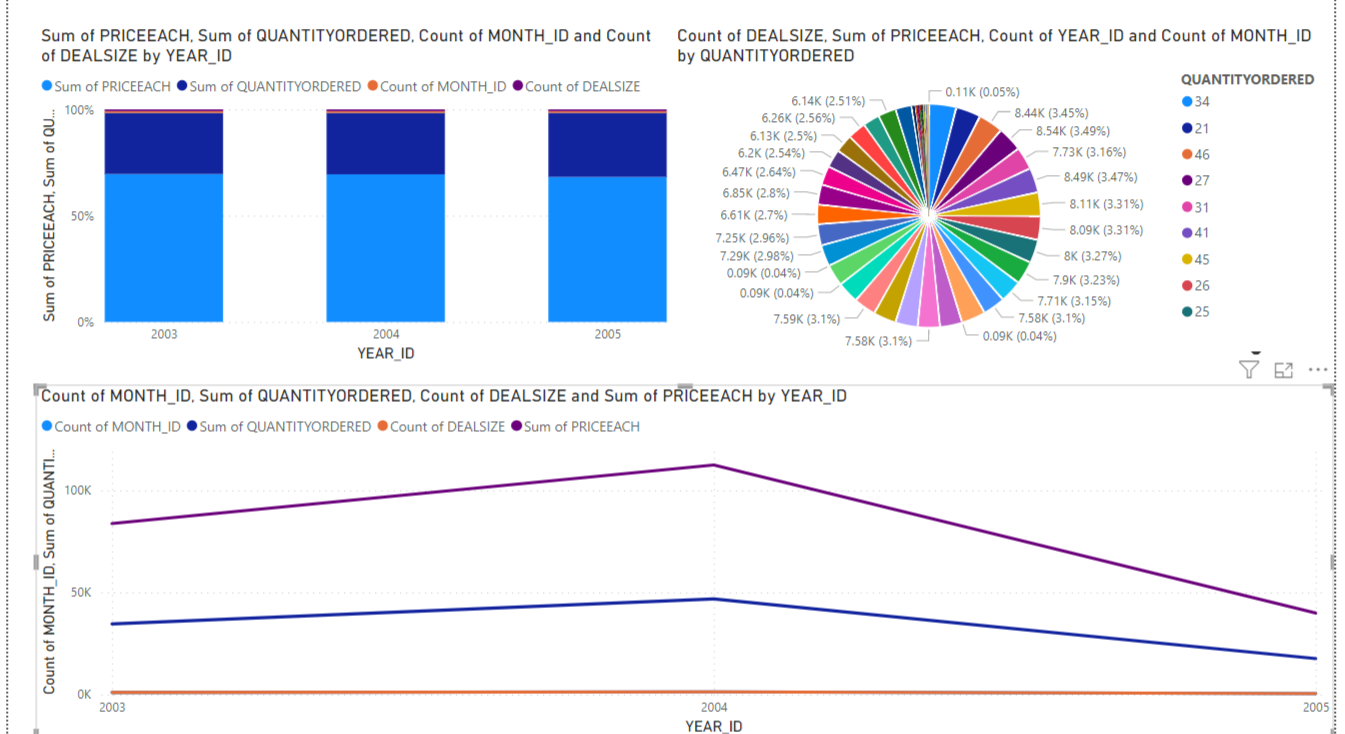

What the dashboard file says about the page in this screenshot:
{"tool":"powerbi","page":{"name":"Page 1","canvas":[1280,720],"ordinal":0},"visuals":[{"type":"hundredPercentStackedColumnChart","fields":{"Category":["sales_data.YEAR_ID"],"Y":["Sum(sales_data.PRICEEACH)","Sum(sales_data.QUANTITYORDERED)","CountNonNull(sales_data.MONTH_ID)","CountNonNull(sales_data.DEALSIZE)"]},"box":[26.5,30.2,613.9,330.5],"z":0},{"type":"pieChart","fields":{"Category":["sales_data.QUANTITYORDERED"],"Y":["CountNonNull(sales_data.DEALSIZE)","Sum(sales_data.PRICEEACH)","CountNonNull(sales_data.YEAR_ID)","CountNonNull(sales_data.MONTH_ID)"]},"box":[640.4,30.2,639.2,330.5],"z":1000},{"type":"lineChart","fields":{"Category":["sales_data.YEAR_ID"],"Y":["CountNonNull(sales_data.MONTH_ID)","Sum(sales_data.QUANTITYORDERED)","CountNonNull(sales_data.DEALSIZE)","Sum(sales_data.PRICEEACH)"]},"box":[26.5,377.5,1253.1,342.5],"z":2000}]}

Visuals, with their boxes on the page's 1280x720 design canvas (x1, y1, x2, y2). These are canvas units, not pixel positions in the 1345x734 screenshot, which may show the page scaled, cropped or inside an application window:
hundredPercentStackedColumnChart - sales_data.YEAR_ID x Sum(sales_data.PRICEEACH): bbox=(26, 30, 640, 361)
pieChart - sales_data.QUANTITYORDERED x CountNonNull(sales_data.DEALSIZE): bbox=(640, 30, 1280, 361)
lineChart - sales_data.YEAR_ID x CountNonNull(sales_data.MONTH_ID): bbox=(26, 378, 1280, 720)
